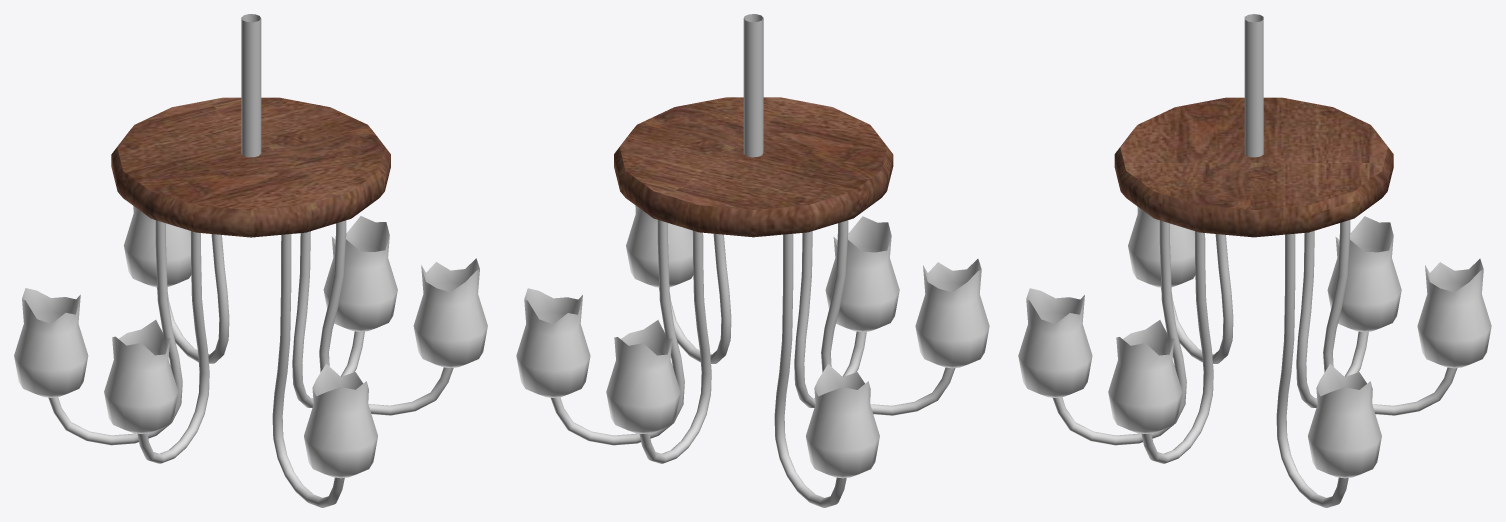
The model's file is CeilingLamp01.fbx.
The picture shows the model from 3 angles, left to right: view 1: azimuth 30°, elevation 25°; view 2: azimuth 150°, elevation 25°; view 3: azimuth 270°, elevation 25°; orthographic projection.
Visible parts, largest first — view 1: polySurface1, polySurface64, polySurface63, polySurface65, polySurface67, polySurface68, polySurface5, polySurface66, polySurface7, polySurface4, Soporte, polySurface2 (+8 smaller); view 2: polySurface1, polySurface66, polySurface65, polySurface68, polySurface64, polySurface63, polySurface7, polySurface67, polySurface6, polySurface3, Soporte, polySurface4 (+8 smaller); view 3: polySurface1, polySurface67, polySurface68, polySurface63, polySurface66, polySurface65, polySurface6, polySurface64, polySurface5, polySurface2, Soporte, polySurface3 (+8 smaller).
Boxes of the visible parts, <box> form: polySurface1: <box>111,97,390,237</box>; polySurface64: <box>104,320,178,433</box>; polySurface63: <box>304,364,377,475</box>; polySurface65: <box>14,288,88,395</box>; polySurface67: <box>413,258,487,367</box>; polySurface68: <box>323,216,397,329</box>; polySurface5: <box>272,234,344,507</box>; polySurface66: <box>124,206,191,287</box>; polySurface7: <box>48,220,182,445</box>; polySurface4: <box>137,231,209,463</box>; Soporte: <box>241,14,261,157</box>; polySurface2: <box>319,220,453,415</box>; polySurface1: <box>614,97,893,237</box>; polySurface66: <box>606,320,680,433</box>; polySurface65: <box>806,364,879,475</box>; polySurface68: <box>516,288,590,395</box>; polySurface64: <box>915,259,989,368</box>; polySurface63: <box>825,216,899,329</box>; polySurface7: <box>774,233,846,507</box>; polySurface67: <box>626,205,693,287</box>; polySurface6: <box>550,220,684,445</box>; polySurface3: <box>639,230,711,463</box>; Soporte: <box>743,14,763,157</box>; polySurface4: <box>821,220,955,415</box>; polySurface1: <box>1114,97,1393,237</box>; polySurface67: <box>1108,320,1182,433</box>; polySurface68: <box>1308,364,1381,475</box>; polySurface63: <box>1018,288,1092,395</box>; polySurface66: <box>1417,258,1491,368</box>; polySurface65: <box>1327,216,1401,329</box>; polySurface6: <box>1276,233,1348,507</box>; polySurface64: <box>1128,206,1195,287</box>; polySurface5: <box>1052,220,1186,445</box>; polySurface2: <box>1141,231,1213,463</box>; Soporte: <box>1244,14,1263,157</box>; polySurface3: <box>1323,220,1457,415</box>.
Size of the model in its own units: 0.7249 by 0.8 by 0.7956.
